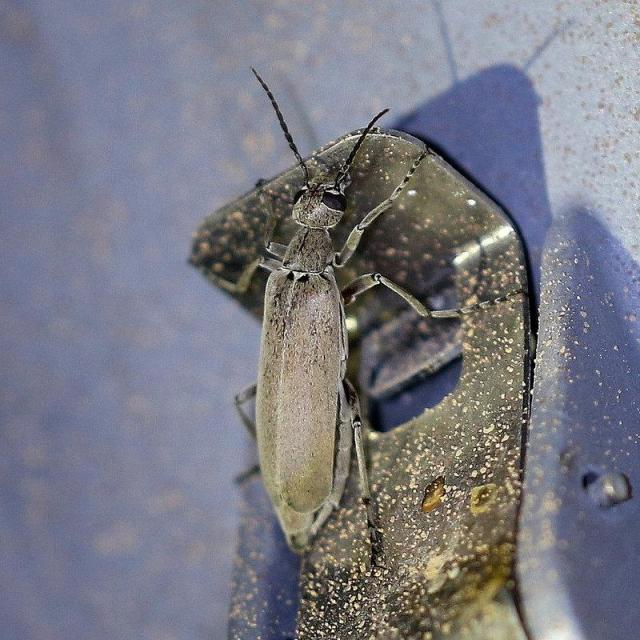BlisterBeetle-Adult-: (221, 58, 458, 562)
